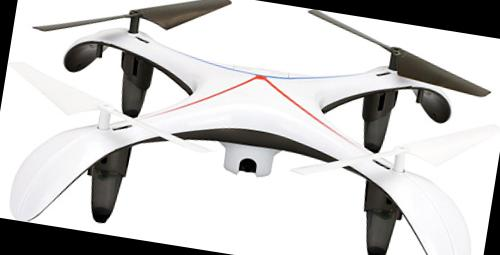drone: (0, 0, 486, 255)
